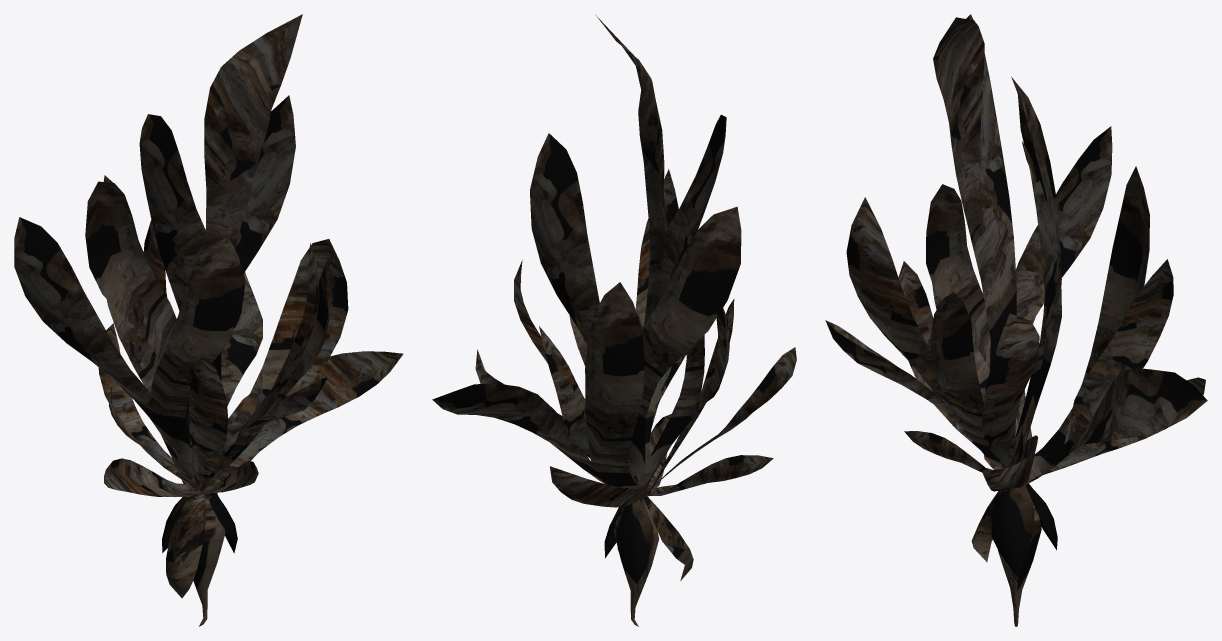
3 views of the same model, side by side, from view 1: azimuth 30°, elevation 25°; view 2: azimuth 150°, elevation 25°; view 3: azimuth 270°, elevation 25° (orthographic). The views are drawn at different scales.
Parts seen in each view (by area): view 1: SM_MahoganyWood_01_LOD0; view 2: SM_MahoganyWood_01_LOD0; view 3: SM_MahoganyWood_01_LOD0.
Part boxes in pixels (x1,y1,x2,y2): SM_MahoganyWood_01_LOD0: (14, 14, 403, 626); SM_MahoganyWood_01_LOD0: (432, 14, 796, 626); SM_MahoganyWood_01_LOD0: (825, 14, 1207, 626).
Size of the model in its own units: 0.4453 by 0.7986 by 0.4272.
